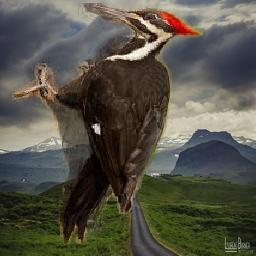Woodpecker: (13, 4, 204, 245)
